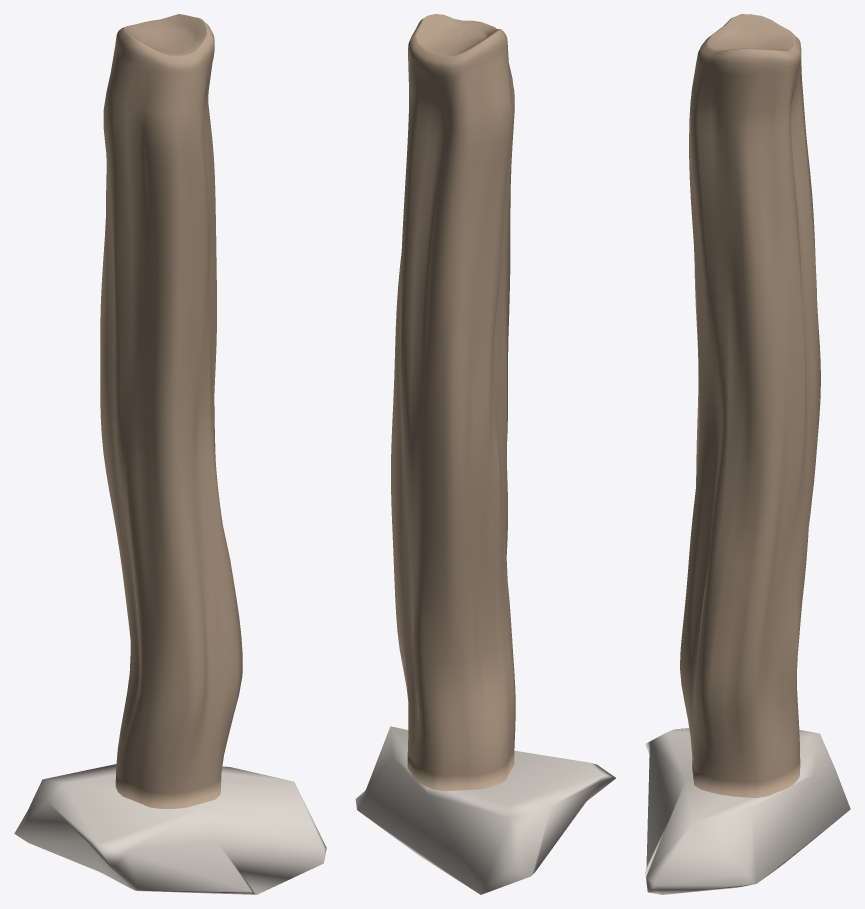
The model's file is bagana-f3-3x10x3-v2.glb.
3 renders of one model, left to right at view 1: azimuth 30°, elevation 25°; view 2: azimuth 150°, elevation 25°; view 3: azimuth 270°, elevation 25°, orthographic.
Visible parts, largest first — view 1: bagana_wood, bagana_stone; view 2: bagana_wood, bagana_stone; view 3: bagana_wood, bagana_stone.
Boxes of the visible parts, left/top/right/bottom form: bagana_wood: left=100, top=14, right=242, bottom=808; bagana_stone: left=14, top=764, right=326, bottom=894; bagana_wood: left=391, top=14, right=515, bottom=791; bagana_stone: left=355, top=726, right=615, bottom=894; bagana_wood: left=680, top=14, right=820, bottom=797; bagana_stone: left=645, top=728, right=850, bottom=894.
Bounding box in the file's own units: 0.7206 × 2.56 × 0.579.
